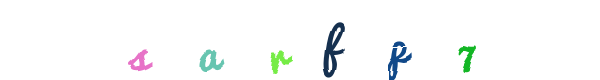7: (427, 0, 507, 80)
A: (236, 0, 316, 80)
F: (259, 0, 339, 80)
P: (318, 0, 398, 80)
R: (250, 0, 330, 80)
S: (100, 0, 180, 80)
